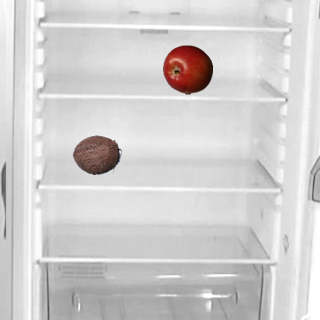Apple Braeburn: (162, 44, 212, 94)
Cocos: (71, 129, 121, 179)
